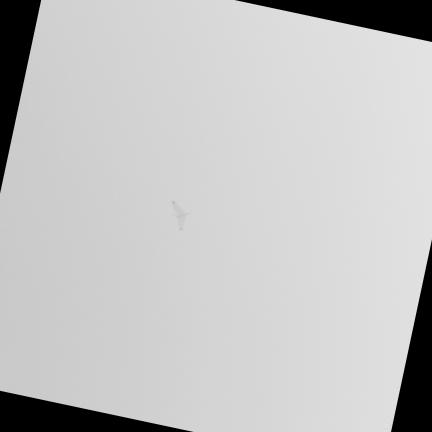Shahed: (171, 199, 189, 231)
